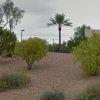Palm tree: (43, 9, 78, 51)
